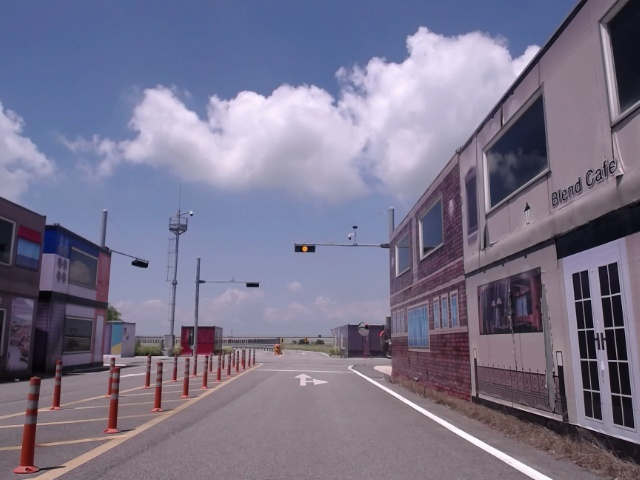orange_3: (295, 245, 315, 252)
